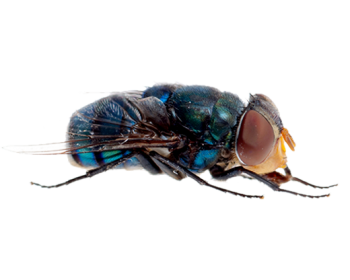green bottles flies: (9, 46, 350, 229)
